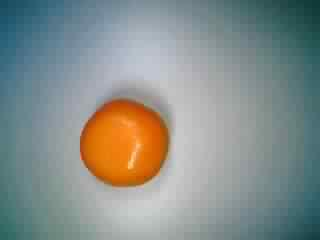orange: (77, 92, 172, 194)
